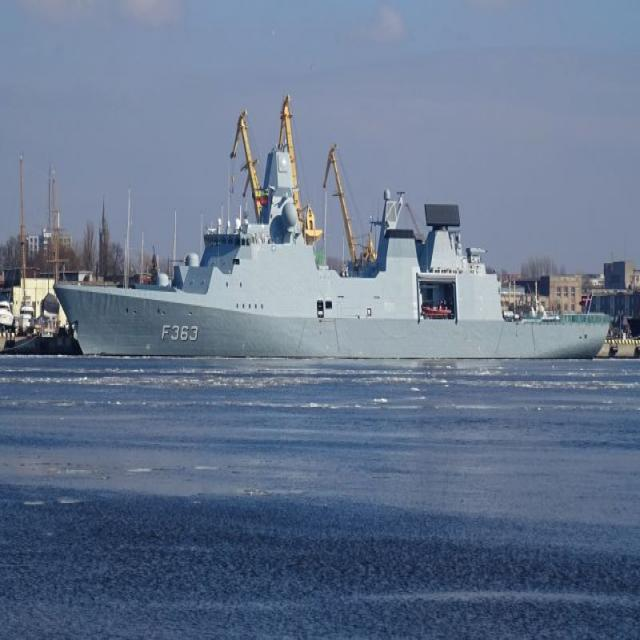Fragata: (47, 127, 612, 364)
